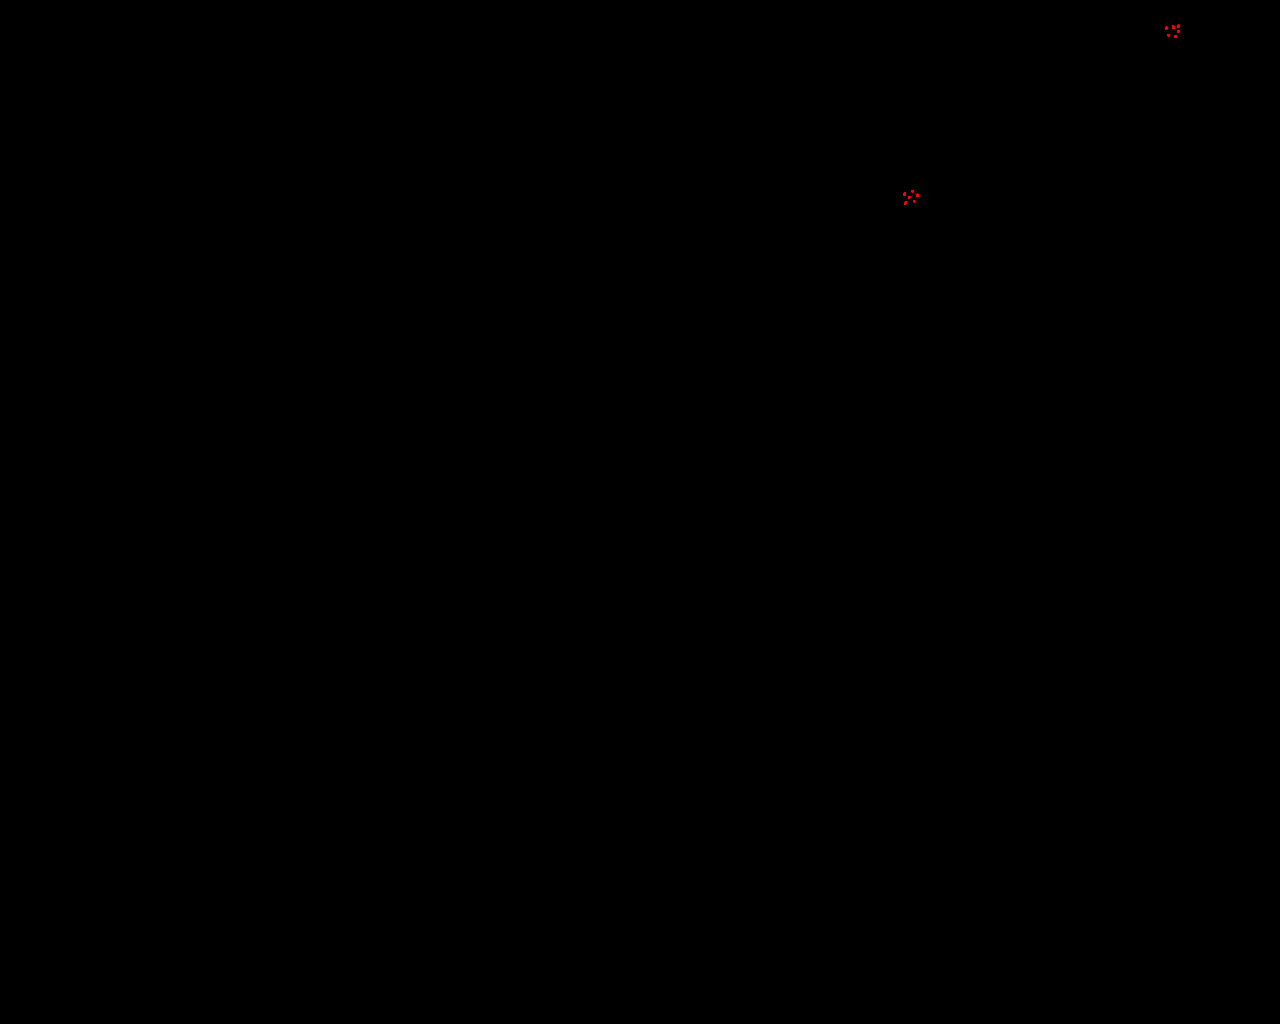Target: (1177, 24, 1180, 28), (1172, 25, 1176, 29), (1165, 26, 1168, 30), (903, 192, 906, 196), (916, 193, 920, 197), (904, 201, 907, 205), (1177, 30, 1180, 33), (911, 190, 914, 193), (913, 200, 916, 203), (1167, 34, 1170, 37), (1174, 34, 1177, 38), (908, 196, 911, 199)
